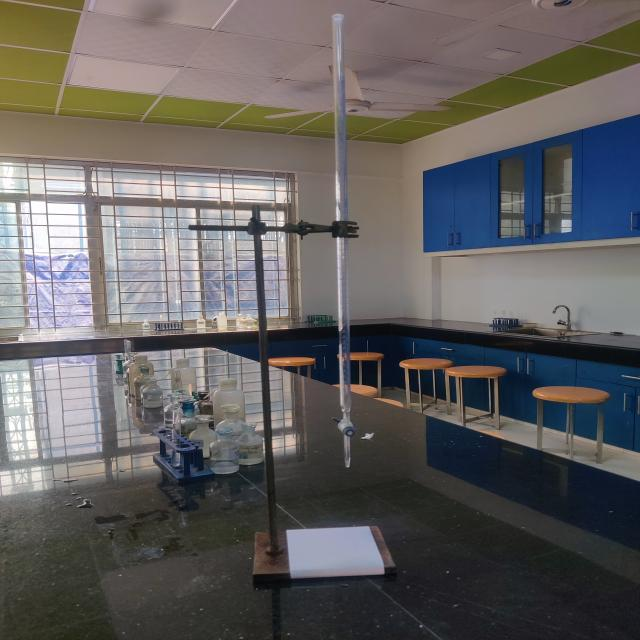Burette_Stands: (181, 0, 411, 599)
